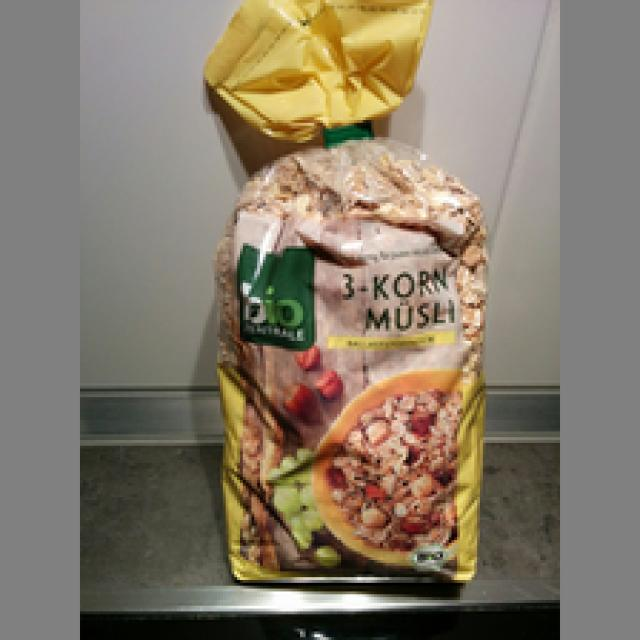groceries: (197, 3, 494, 588)
